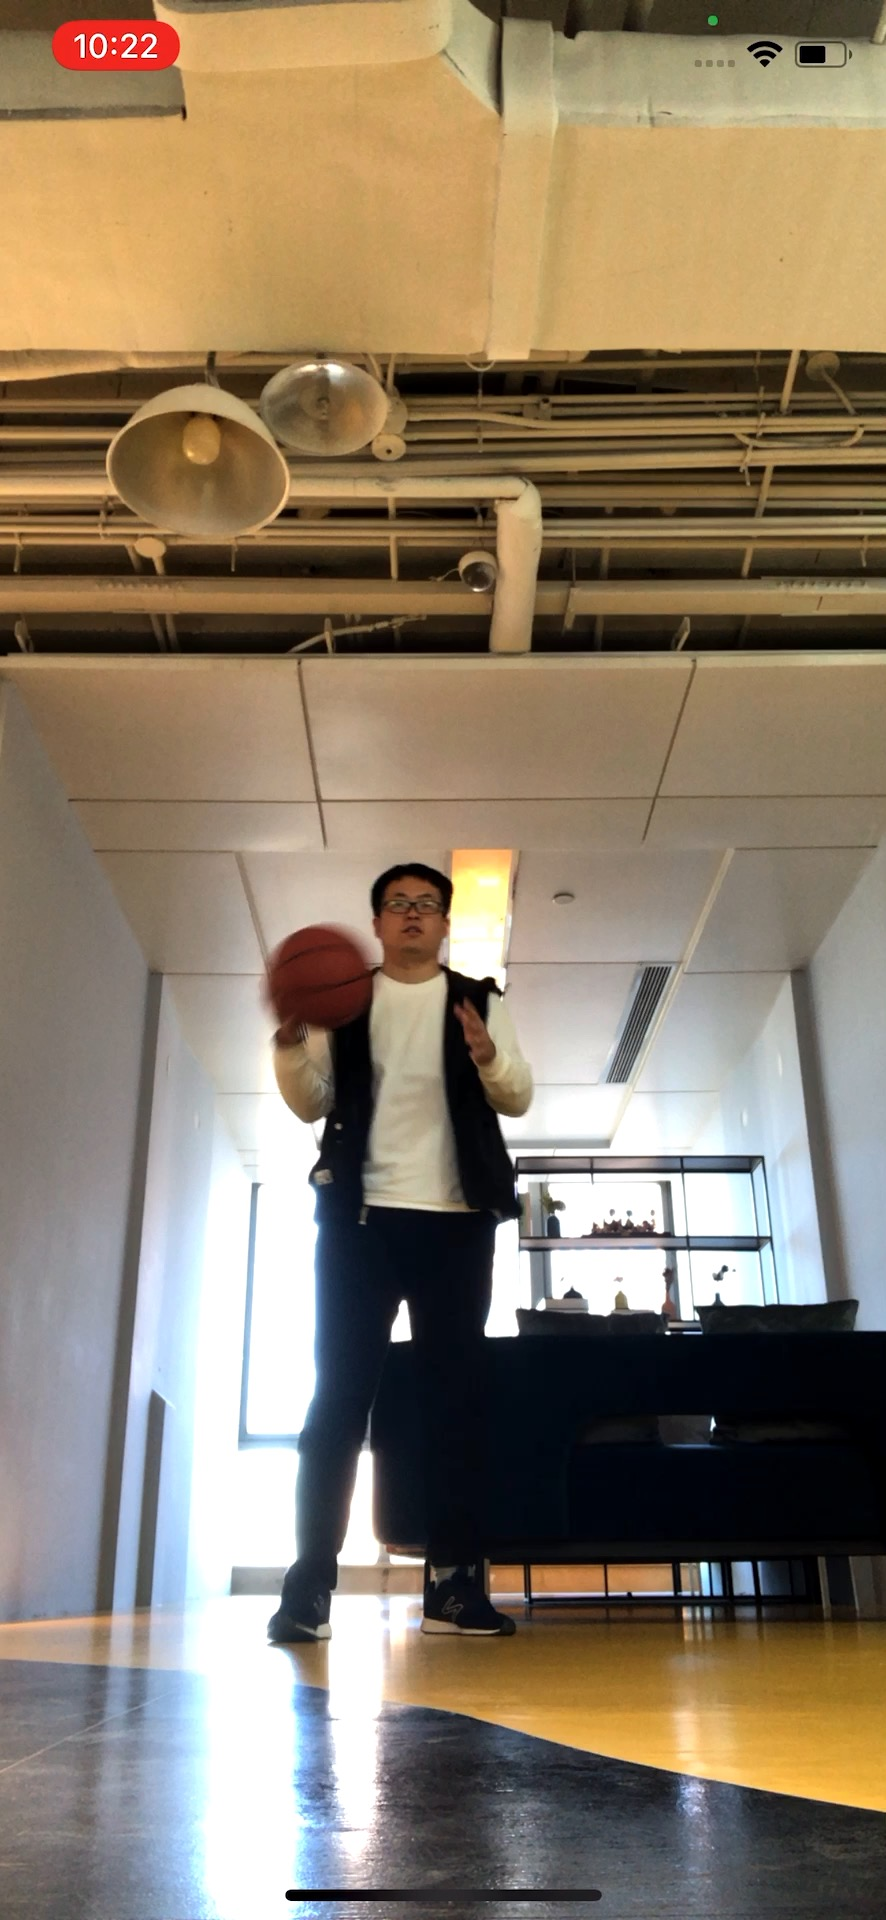ball: (272, 927, 374, 1033)
